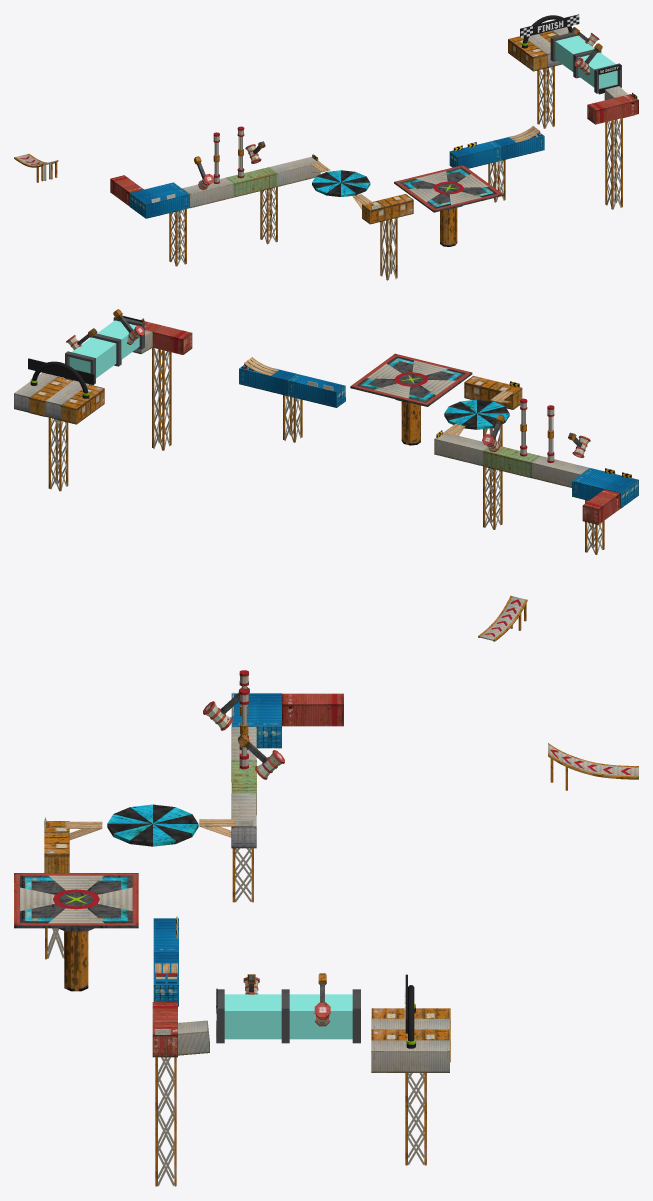
Rendered from 10_Parkour.fbx.
The picture shows the model from 3 angles, top to bottom: view 1: azimuth 30°, elevation 25°; view 2: azimuth 150°, elevation 25°; view 3: azimuth 270°, elevation 25°; orthographic projection. The views are drawn at different scales.
Parts seen in each view (by area): view 1: BalancePlatformMoving, NoGravityZone, TurningPlatform, stcontainerred__6_, stcontainerorange, stcontainerblue__1_, stcontainerblue__2_, stcontainergreentwo, orangescaffold__6_, stcontainerwhitetwo__1_, stcontainerwhitetwo, stcontainerorange__2_ (+13 smaller); view 2: BalancePlatformMoving, NoGravityZone, TurningPlatform, stcontainerblue__2_, stcontainerwhitetwo__1_, stcontainerorange, stcontainergreentwo, stcontainerwhitetwo, stcontainerorange__2_, stcontainerred__6_, finishObject, RampFast (+15 smaller); view 3: BalancePlatformMoving, NoGravityZone, TurningPlatform, stcontainerwhitetwo__4_, stcontainerred__4_, BalancePlatformColumn, RampFast, stcontainerblue, stcontainerred__6_, stcontainerwhitetwo__1_, stcontainerorange, orangescaffold__3_ (+11 smaller).
Part boxes in pixels (<box>): BalancePlatformMoving: <box>394,165,503,212</box>; NoGravityZone: <box>555,35,617,88</box>; TurningPlatform: <box>312,170,370,196</box>; stcontainerred__6_: <box>587,94,638,124</box>; stcontainerorange: <box>362,194,413,224</box>; stcontainerblue__1_: <box>138,188,189,218</box>; stcontainerblue__2_: <box>449,141,500,168</box>; stcontainergreentwo: <box>226,167,276,197</box>; orangescaffold__6_: <box>380,218,397,280</box>; stcontainerwhitetwo__1_: <box>269,156,320,186</box>; stcontainerwhitetwo: <box>182,177,233,208</box>; stcontainerorange__2_: <box>508,36,546,71</box>; BalancePlatformMoving: <box>350,353,472,406</box>; NoGravityZone: <box>69,320,139,378</box>; TurningPlatform: <box>444,399,509,429</box>; stcontainerblue__2_: <box>287,374,345,407</box>; stcontainerwhitetwo__1_: <box>434,432,487,466</box>; stcontainerorange: <box>464,375,522,409</box>; stcontainergreentwo: <box>483,446,539,478</box>; stcontainerwhitetwo: <box>532,456,589,487</box>; stcontainerorange__2_: <box>61,384,104,424</box>; stcontainerred__6_: <box>144,321,192,354</box>; finishObject: <box>28,358,94,398</box>; RampFast: <box>478,595,527,641</box>; BalancePlatformMoving: <box>14,873,138,928</box>; NoGravityZone: <box>224,994,352,1039</box>; TurningPlatform: <box>107,804,198,846</box>; stcontainerwhitetwo__4_: <box>371,1040,449,1072</box>; stcontainerred__4_: <box>282,693,343,726</box>; BalancePlatformColumn: <box>58,928,93,991</box>; RampFast: <box>548,743,638,790</box>; stcontainerblue: <box>256,693,281,748</box>; stcontainerred__6_: <box>152,1002,177,1057</box>; stcontainerwhitetwo__1_: <box>231,793,256,848</box>; stcontainerorange: <box>44,821,69,872</box>; orangescaffold__3_: <box>155,1109,176,1186</box>.
Bounding box in the file's own units: 18703 × 5316 × 13198.
